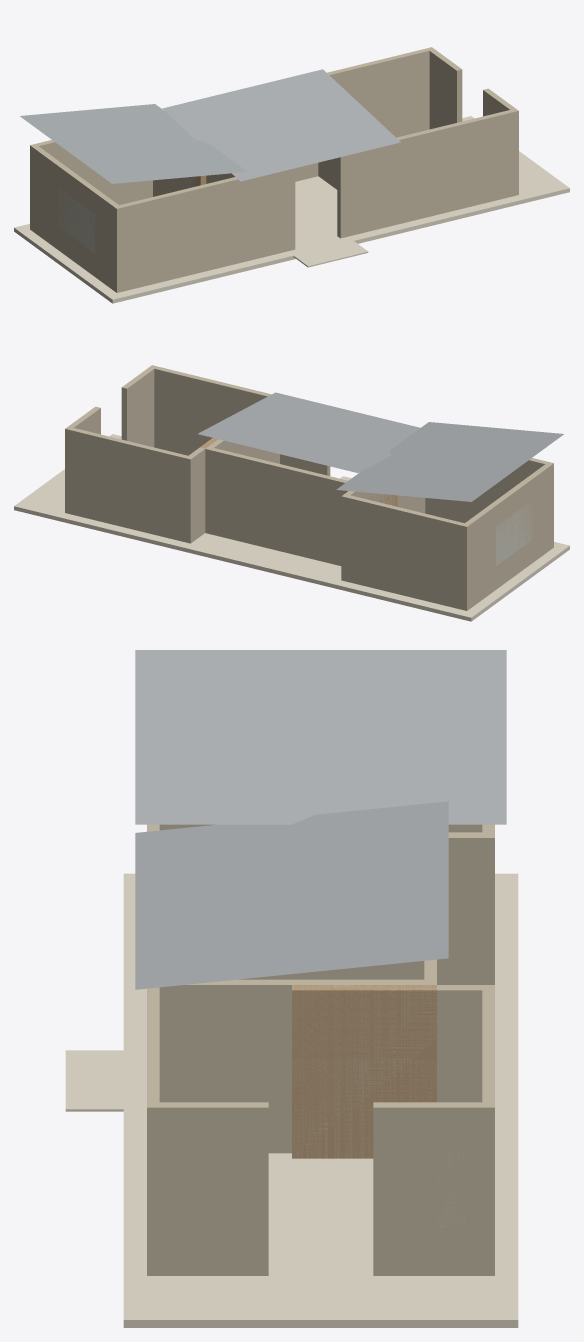
The model's file is community-hub.lod1.glb.
The picture shows the model from 3 angles, top to bottom: view 1: azimuth 30°, elevation 25°; view 2: azimuth 150°, elevation 25°; view 3: azimuth 270°, elevation 25°; orthographic projection. The views are drawn at different scales.
Bounding box in the file's own units: 18.2 × 4.45 × 7.8.
